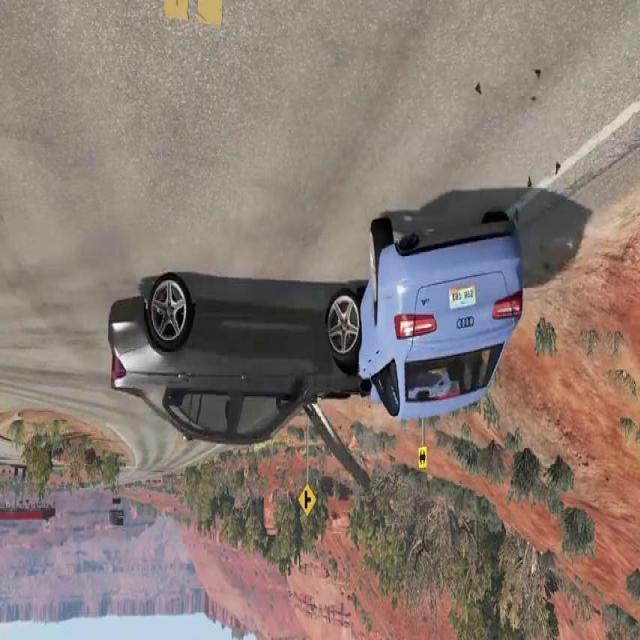vehicle: (88, 255, 382, 480), (352, 222, 546, 428)
